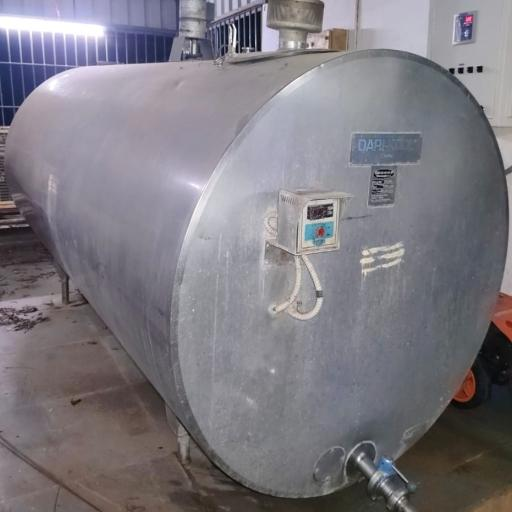silo: (0, 47, 511, 501)
